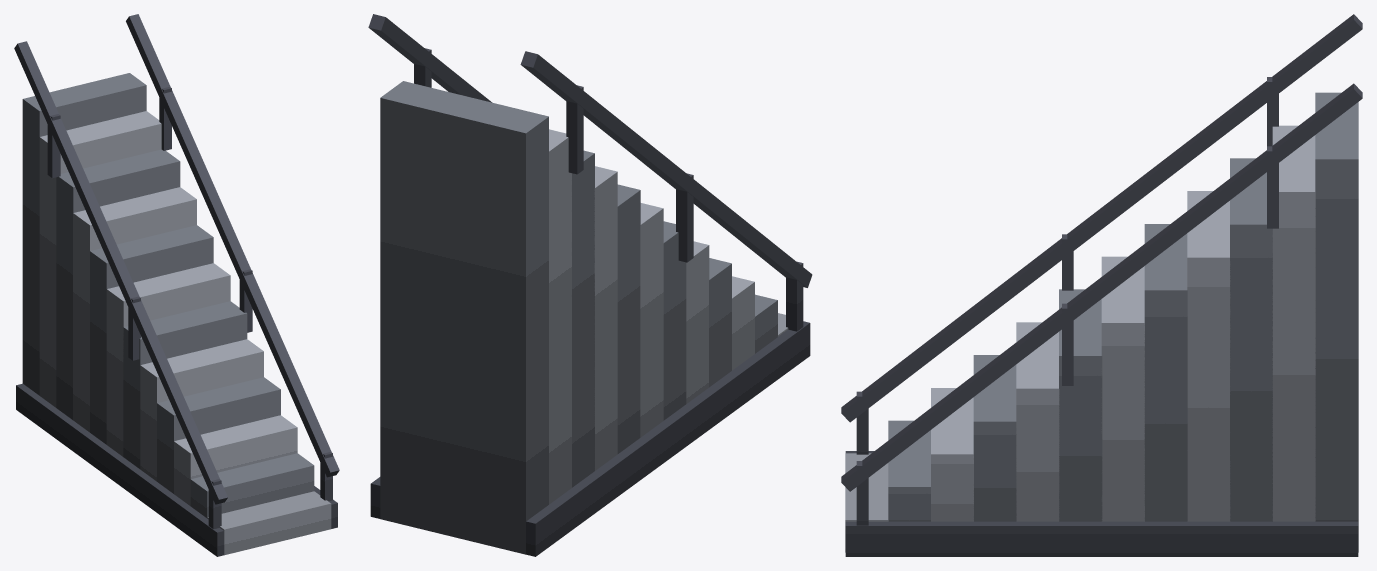
The model's file is slope_metal.glb.
3 views of the same model, side by side, from view 1: azimuth 30°, elevation 25°; view 2: azimuth 150°, elevation 25°; view 3: azimuth 270°, elevation 25° (orthographic). The views are drawn at different scales.
Bounding box in the file's own units: 1.04 × 3.02 × 3.05.
1 material, 1 textured.
